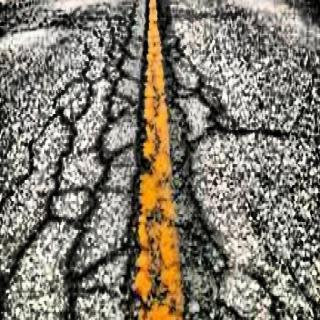alligator-crack: (1, 4, 230, 320)
